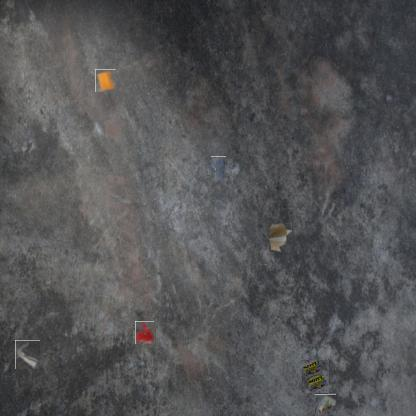dirty: (301, 359, 329, 393), (15, 340, 40, 369), (268, 222, 292, 252), (94, 70, 117, 92), (315, 394, 336, 415)
liquid: (134, 322, 155, 343), (208, 158, 229, 179)
